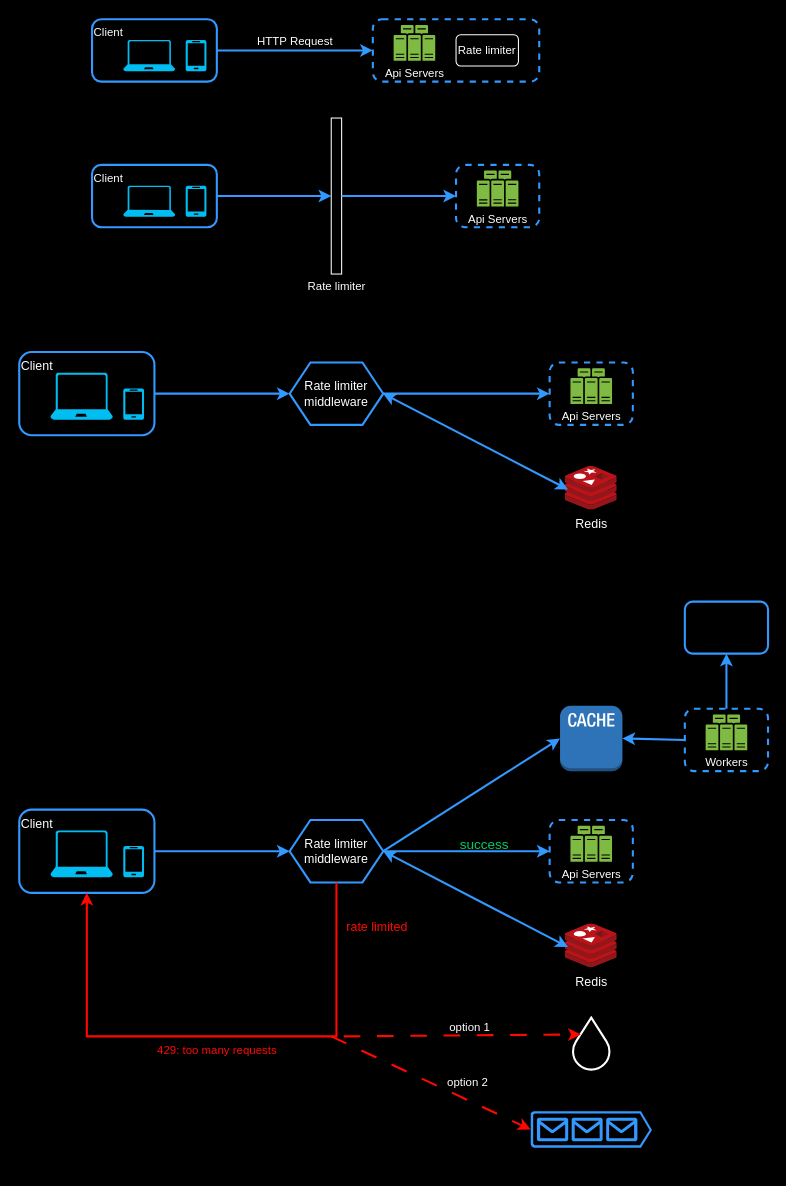
This 786x1186 diagram has some shape labels left out. The shapes that lost their labels are listed below. From the top down, each one's centre as x and y in pixels, then its label:
At point 726,627: "Rules".
At point 590,738: "Cached rules".
At point 590,1043: "Request dropped".
At point 590,1129: "Message queue".
